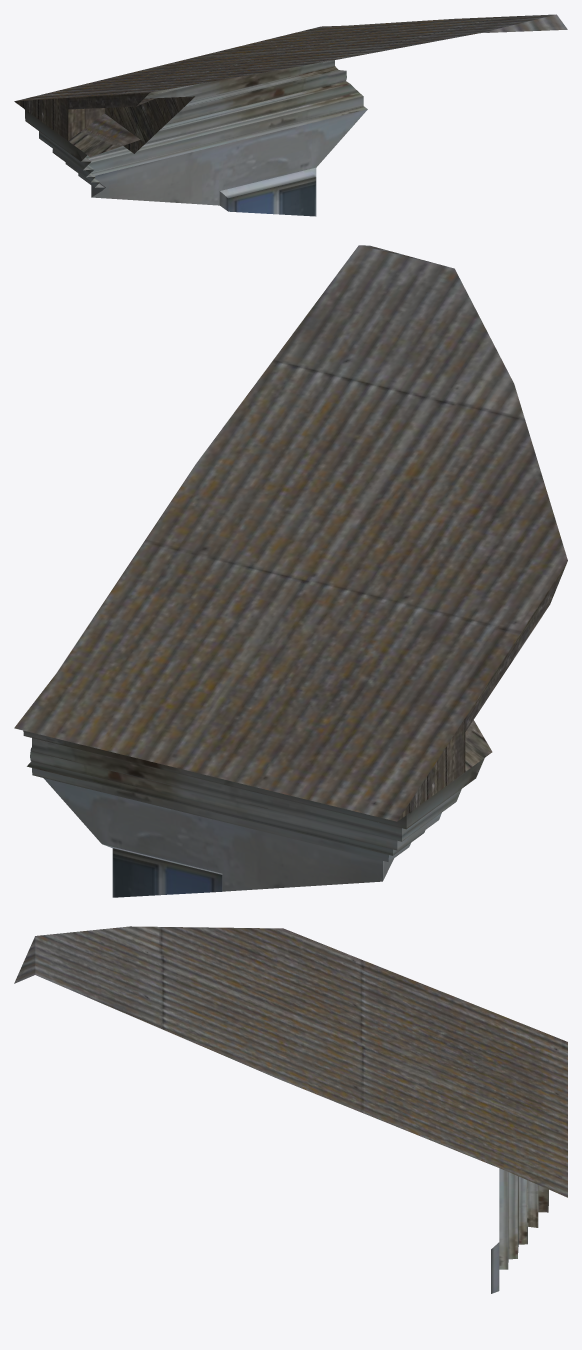
File: House_03_07.fbx
The picture shows the model from 3 angles, top to bottom: view 1: azimuth 30°, elevation 25°; view 2: azimuth 150°, elevation 25°; view 3: azimuth 270°, elevation 25°; orthographic projection. The views are drawn at different scales.
Visible parts, largest first — view 1: Дом2.007; view 2: Дом2.007; view 3: Дом2.007.
Part boxes in pixels (x1,y1,x2,y2): Дом2.007: (14,14,567,216); Дом2.007: (14,245,567,897); Дом2.007: (14,926,567,1293).
Bounding box in the file's own units: 8.41 × 8.94 × 12.08.
1 material, 1 textured.
